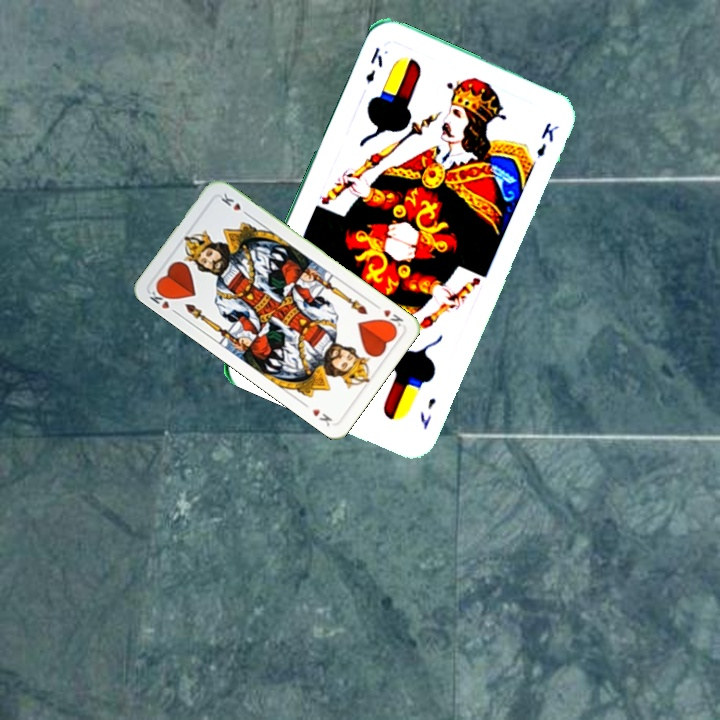EK: (361, 43, 385, 86), (416, 393, 439, 432)
HK: (146, 284, 181, 317), (377, 305, 406, 333)
